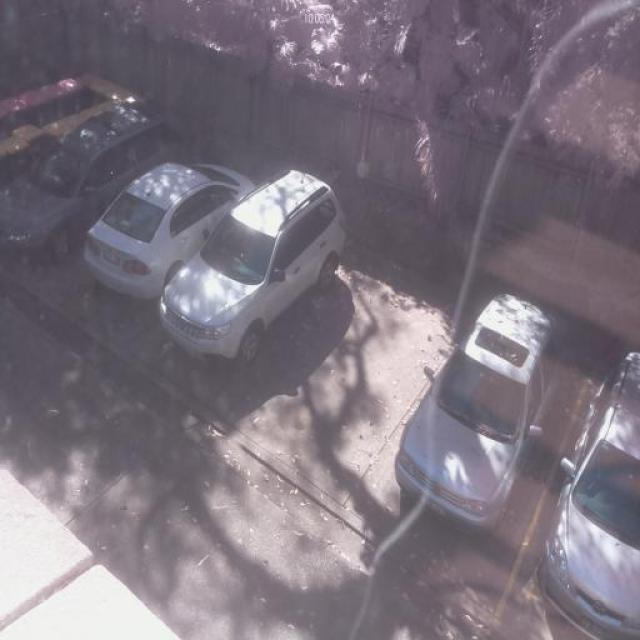Legalparking: (3, 25, 395, 454), (372, 248, 640, 640)
